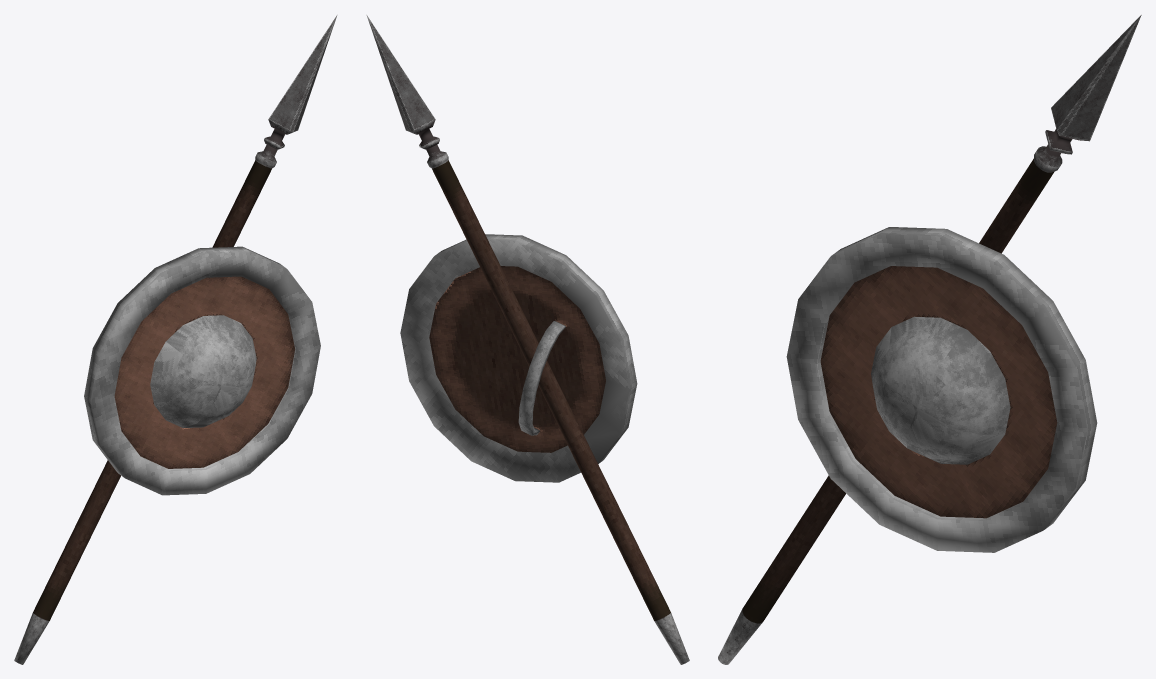
Rendered from spear_menu.gltf.
3 views of the same model, side by side, from view 1: azimuth 30°, elevation 25°; view 2: azimuth 150°, elevation 25°; view 3: azimuth 330°, elevation 25° (orthographic). The views are drawn at different scales.
Parts seen in each view (by area): view 1: Cylinder.003; view 2: Cylinder.003; view 3: Cylinder.003.
Part boxes in pixels (left/top/right/bottom): Cylinder.003: left=14, top=15, right=337, bottom=664; Cylinder.003: left=366, top=15, right=689, bottom=664; Cylinder.003: left=718, top=15, right=1141, bottom=664.
Bounding box in the file's own units: 1.56 × 2.65 × 0.3304.
Materials: 7 (7 with a texture image).
